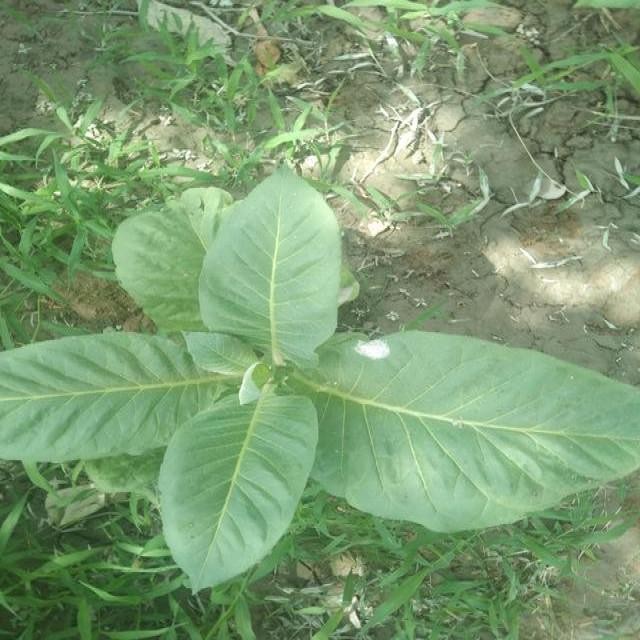crop: (0, 150, 640, 598)
